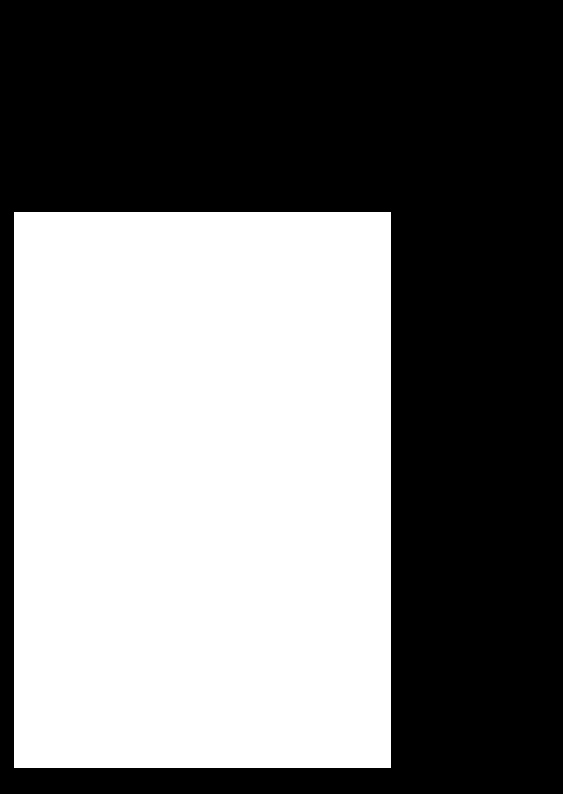table: (14, 212, 390, 767)
